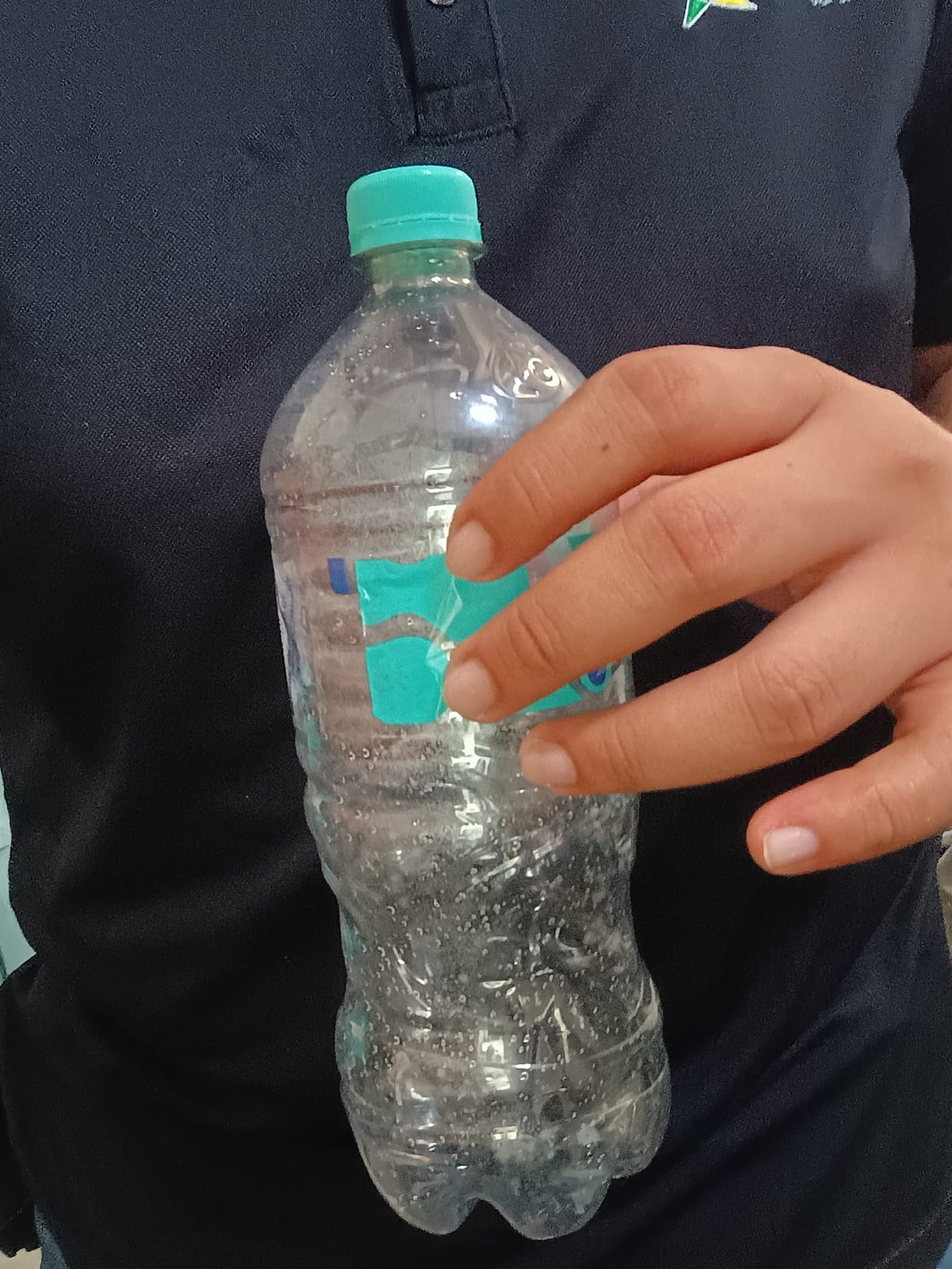Plastico: (257, 165, 674, 1241)
